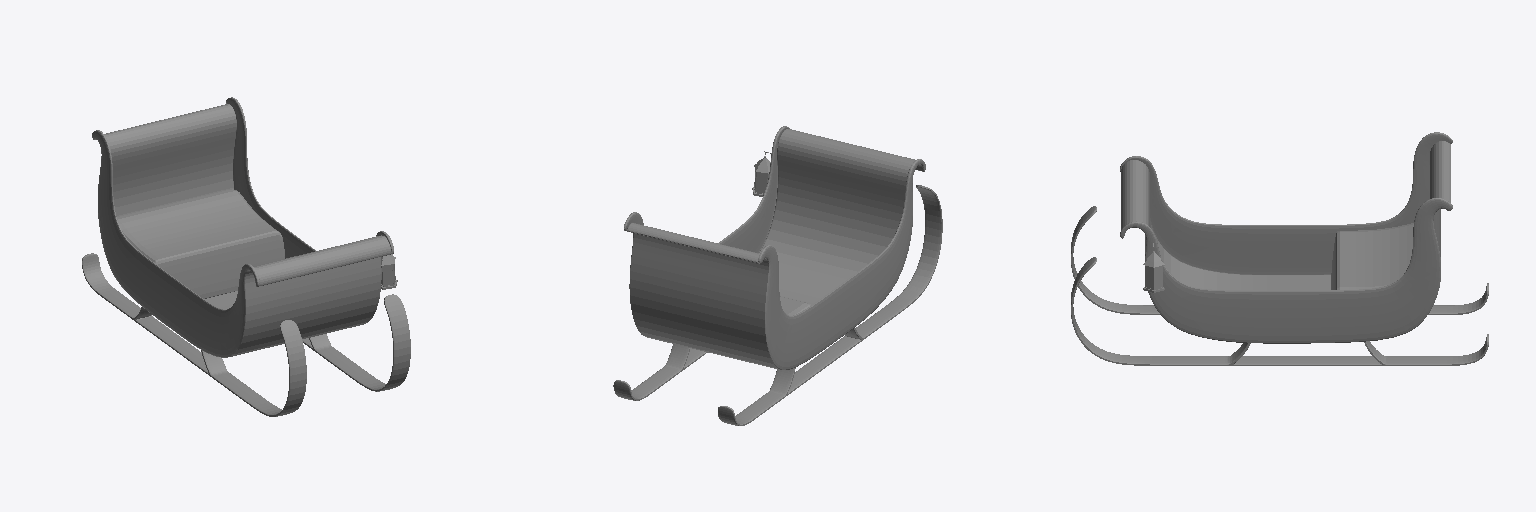
The model's file is santasleigh.obj.
3 renders of one model, left to right at view 1: azimuth 30°, elevation 25°; view 2: azimuth 150°, elevation 25°; view 3: azimuth 270°, elevation 25°, orthographic.
Parts seen in each view (by area): view 1: santasleigh; view 2: santasleigh; view 3: santasleigh.
Boxes of the visible parts, x1,y1,x2,y2 form: santasleigh: [82, 97, 410, 416]; santasleigh: [613, 126, 942, 425]; santasleigh: [1071, 132, 1488, 365].
Bounding box in the file's own units: 236 × 246 × 543.